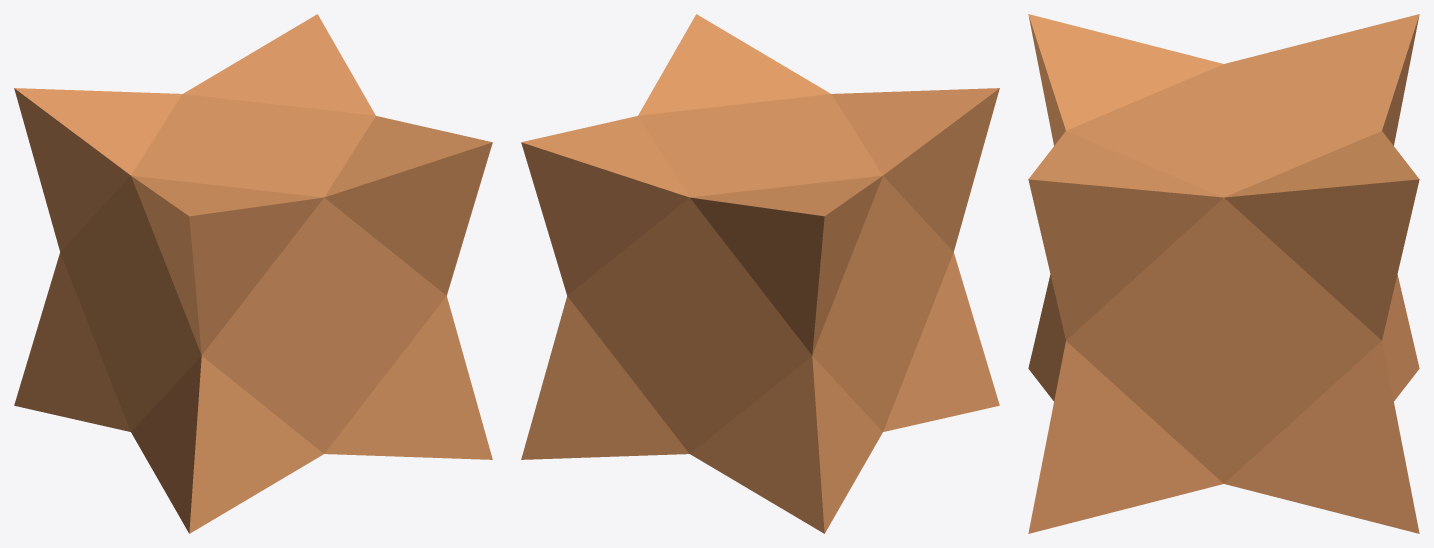
File: seed.dae
3 renders of one model, left to right at view 1: azimuth 30°, elevation 25°; view 2: azimuth 150°, elevation 25°; view 3: azimuth 270°, elevation 25°, orthographic. The views are drawn at different scales.
Visible parts, largest first — view 1: Cube; view 2: Cube; view 3: Cube.
Part boxes in pixels (bbox=[...]): Cube: bbox=[14, 14, 492, 533]; Cube: bbox=[521, 14, 999, 533]; Cube: bbox=[1028, 14, 1419, 533].
Bounding box in the file's own units: 2 × 2 × 2.
